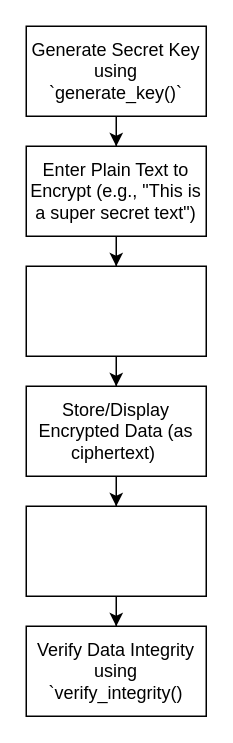
This 233x743 diagram has some shape labels left out. The shapes that lost their labels are listed below. From the top down, each one's centre as x and y in pixels, then its label:
point (115, 310): Encrypt Data Using Key with `encrypt_data()`
point (115, 550): Decrypt Data Using Key with `decrypt_data()`
